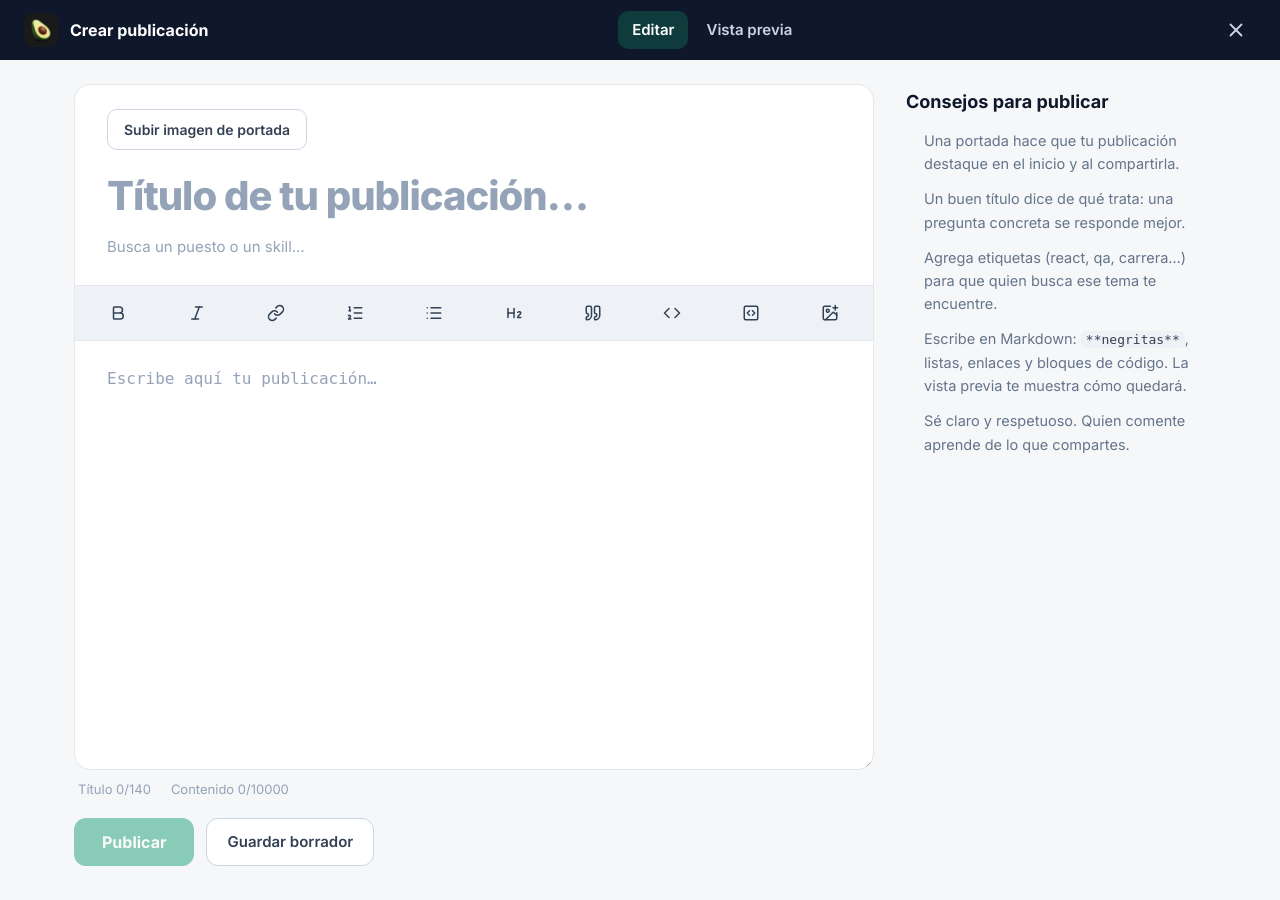
Test: PublishForm › picks from the list with a click, and shows the readable name
This screenshot has width=1280, height=900.
Type "pyth" into the dropdown named "Etiquetas" at [474, 247], box [107, 230, 841, 264]
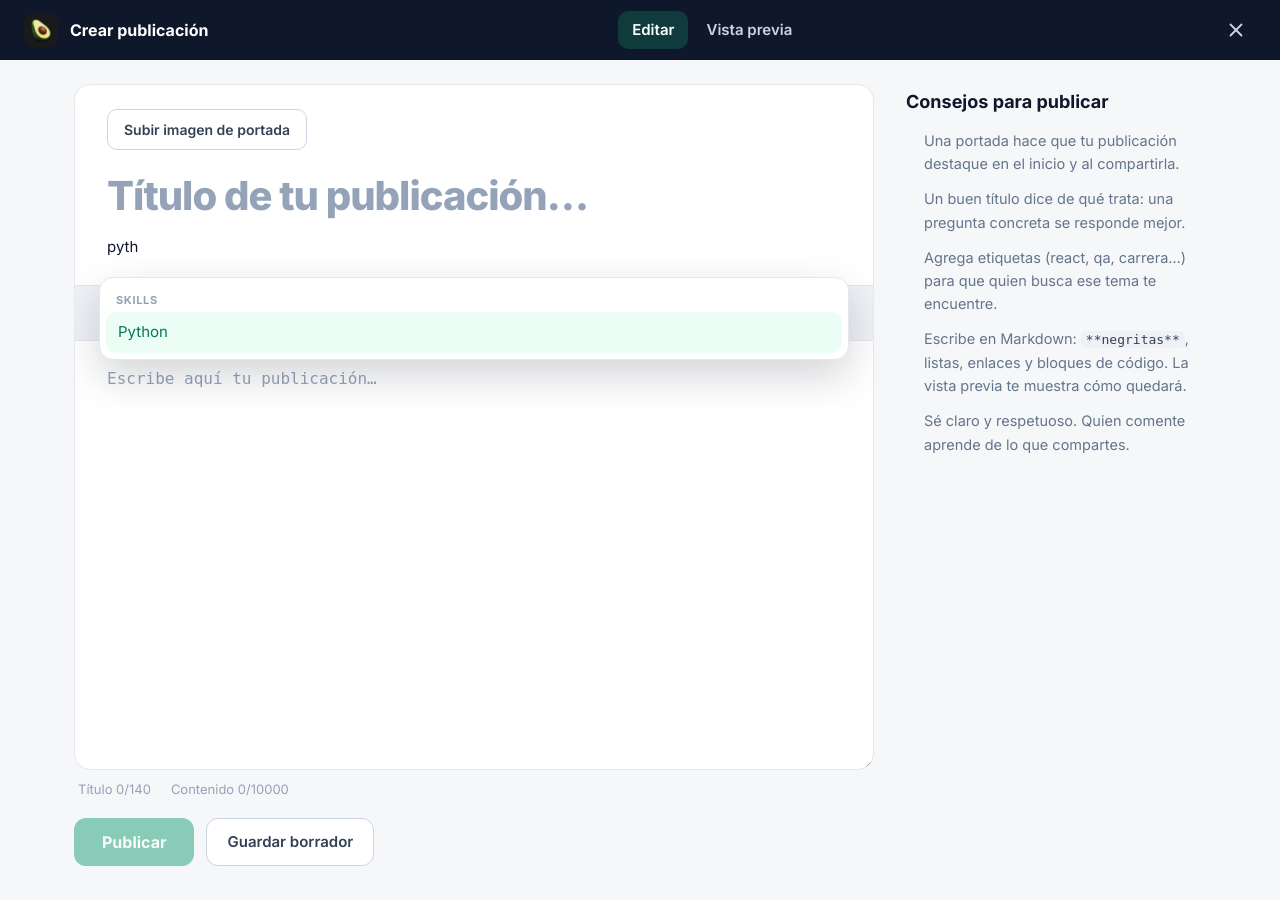
Click the option "Python" at [143, 332], box [106, 312, 842, 352]
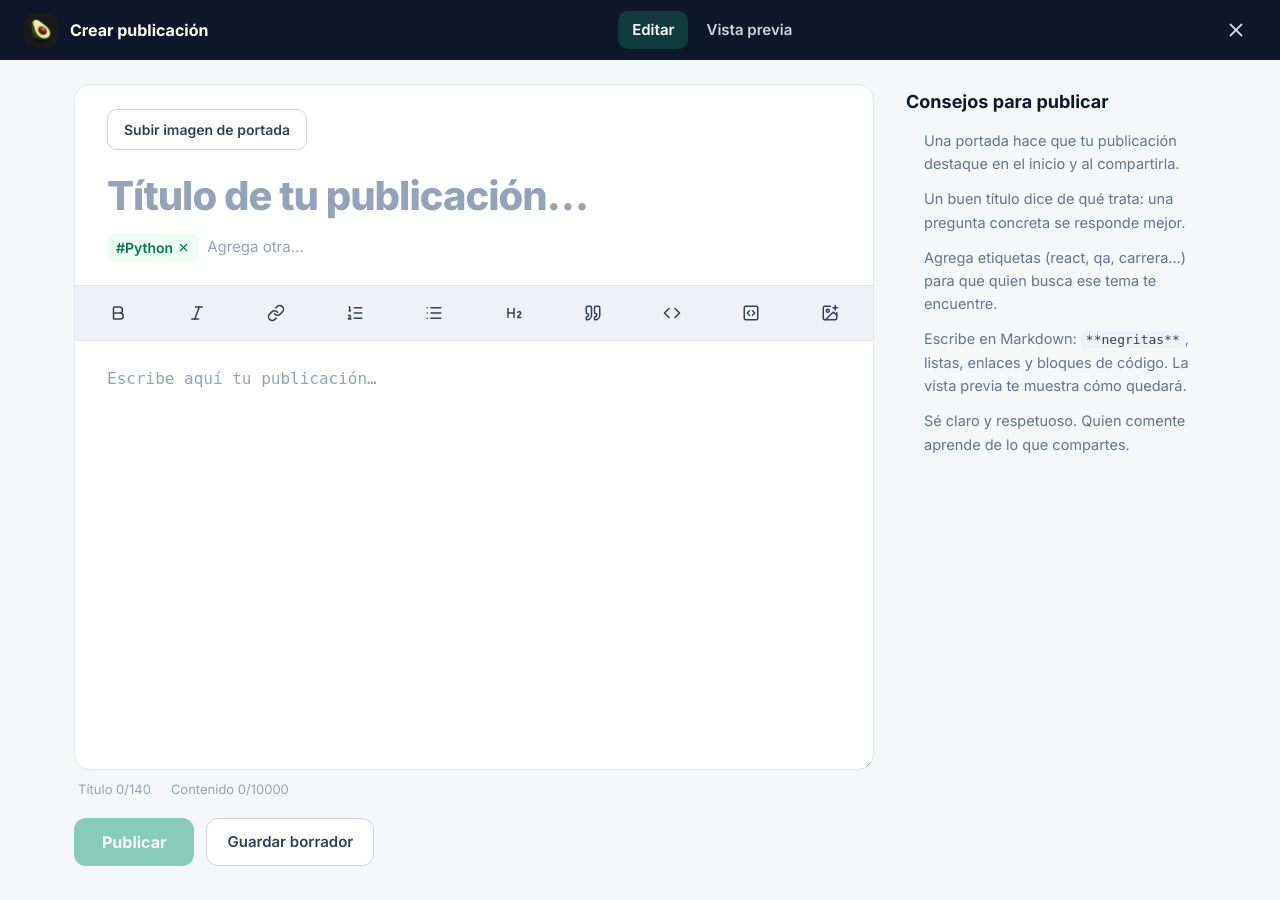
Expected: the text "#Python" is shown, [107, 233, 199, 262]
Expected: the list "Skills Python" is gone
